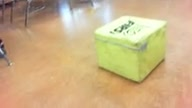cube: (94, 14, 167, 84)
